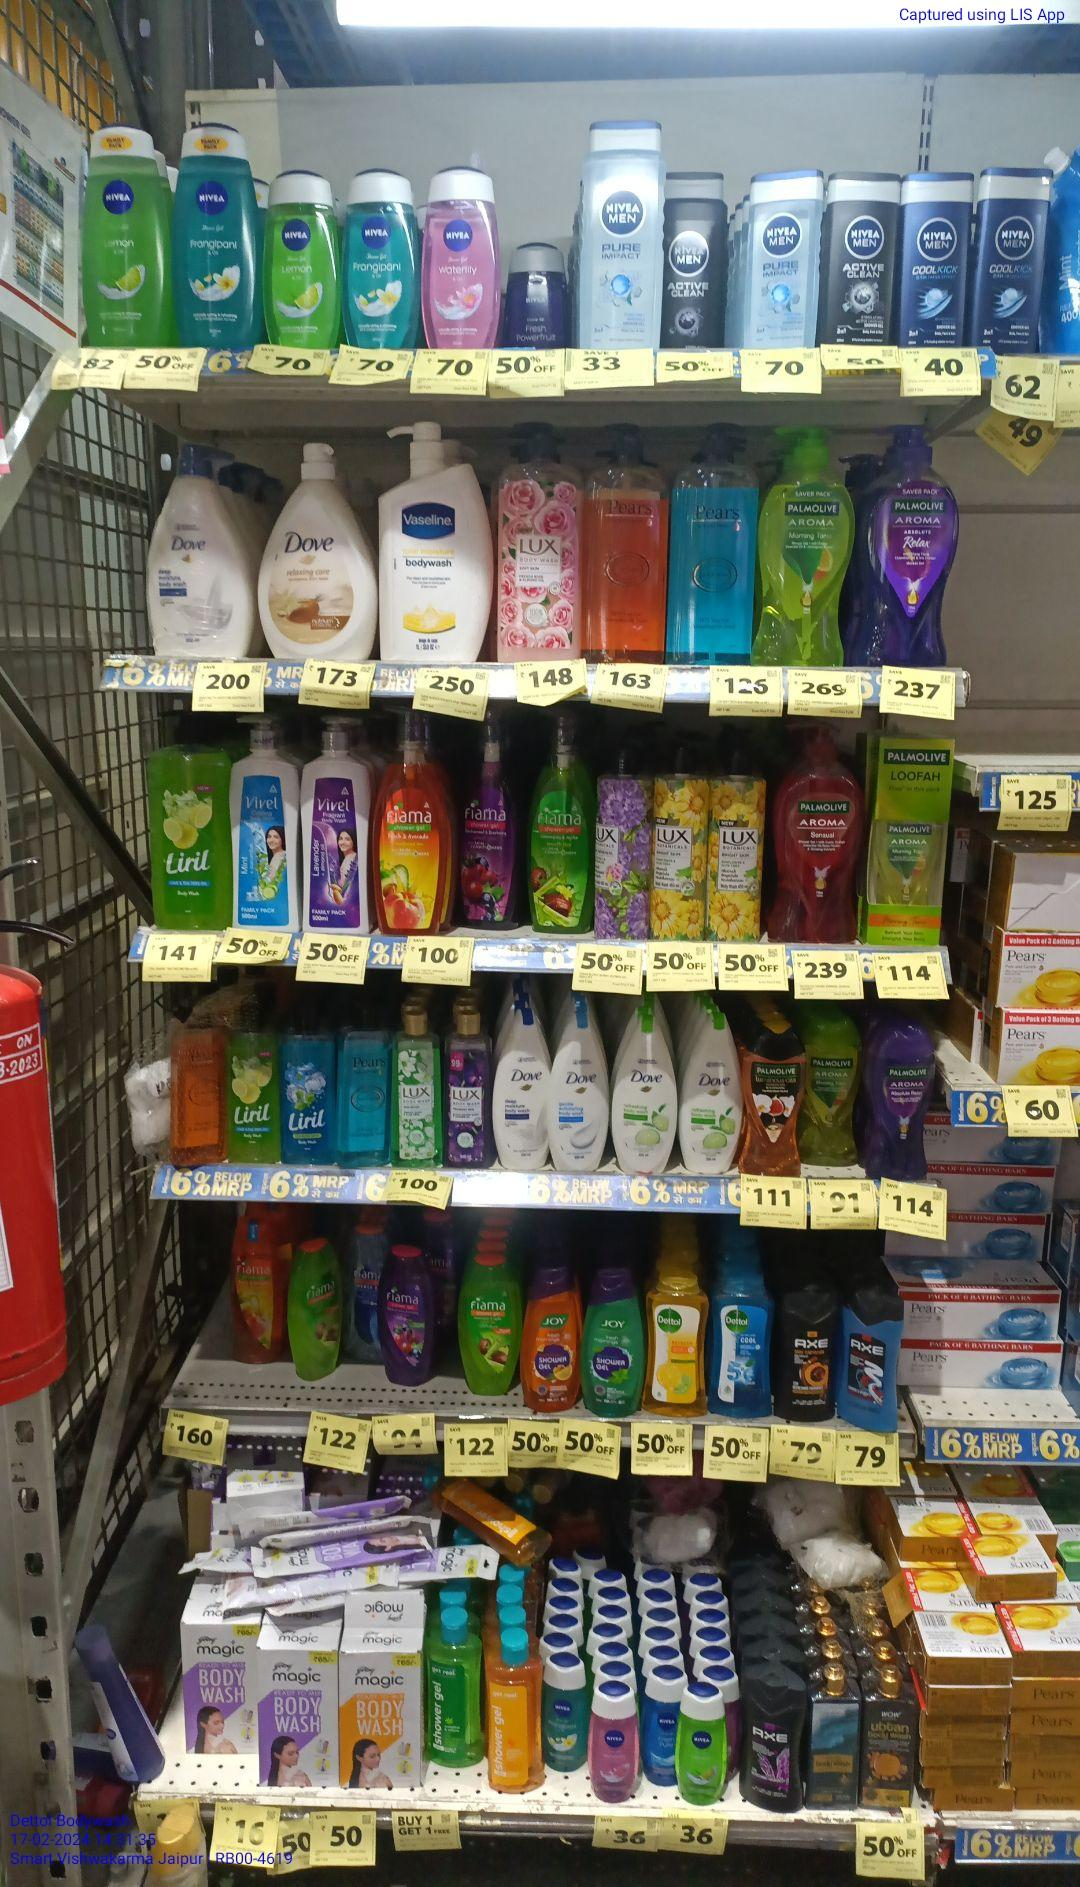Dettol_Bodywash_Cool: (712, 1261, 775, 1420)
Dettol_Bodywash_Refresh: (640, 1261, 707, 1417)
Dove_Deep_Moisture_Body_Wash_250ML: (499, 1008, 550, 1173)
Dove_Gentle_Exfoliating_Body_Wash_250ML: (551, 1001, 611, 1170)
Dove_Refreshing_Body_Wash_250ML: (616, 1008, 675, 1174), (682, 1006, 738, 1172)
Fiama_Shower_Gel_Lemongrass_and_Jojoba_250ML: (288, 1236, 340, 1382), (463, 1257, 515, 1387)
Joy_Shower_Gel_Mandarin_and_Lemongrass_250ML: (522, 1265, 580, 1413)
Joy_Shower_Gel_Mint_and_Eucalyptus_250ML: (578, 1265, 639, 1419)
Liril_Cooling_Mint_Body_Wash_250ML: (280, 995, 333, 1165)
Liril_Lime_and_Tea_Tree_Oil_Body_Wash_250ML: (224, 1006, 279, 1161)
Lux_Black_Orchid_Scent_and_Juniper_Oil_Body_Wash_245ML: (445, 1006, 490, 1166)
Lux_Body_Wash_Skin_Detox_Freesia_Scent_and_Alove_Vera_245ML: (395, 1002, 440, 1173)
Nivea_Shower_Gel_Frangipani_and_Oil_250ML: (176, 127, 259, 350), (353, 168, 416, 350)
Nivea_Shower_Gel_Lemon_and_Oil_250ML: (84, 127, 172, 355), (263, 170, 351, 359)
Nivea_Shower_Gel_Waterlily_and_Oil_250ML: (421, 162, 495, 349)
Palmolive_Aroma_Morning_Tonic_Shower_Gel_250ML: (801, 1011, 862, 1173)
Palmolive_Aroma_Relax_250ML: (869, 1023, 928, 1181)
Palmolive_Luminous_Oils_With_White_Orchid_Shower_Gel_250ML: (745, 1019, 801, 1183)
Pears_Pure_Glycerin_and_Mint_Extracts_Body_Wash_250ML: (338, 1001, 392, 1169)
